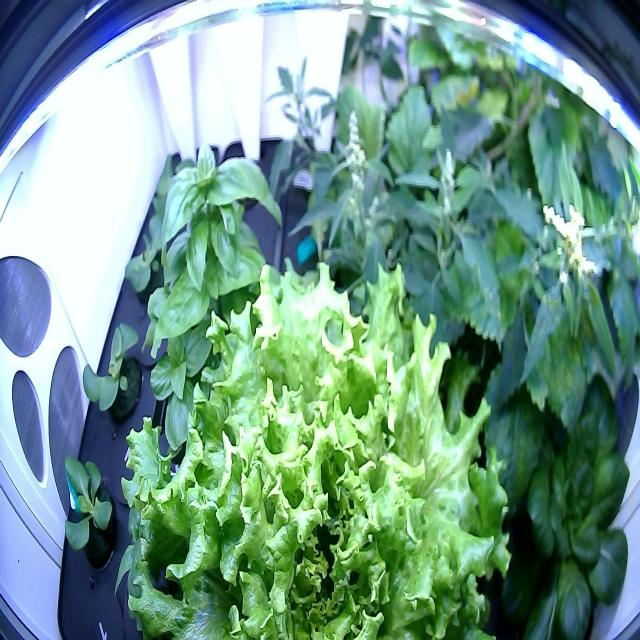Ready: (470, 347, 640, 637)
young: (51, 442, 125, 584), (74, 304, 148, 441), (116, 197, 186, 320)
